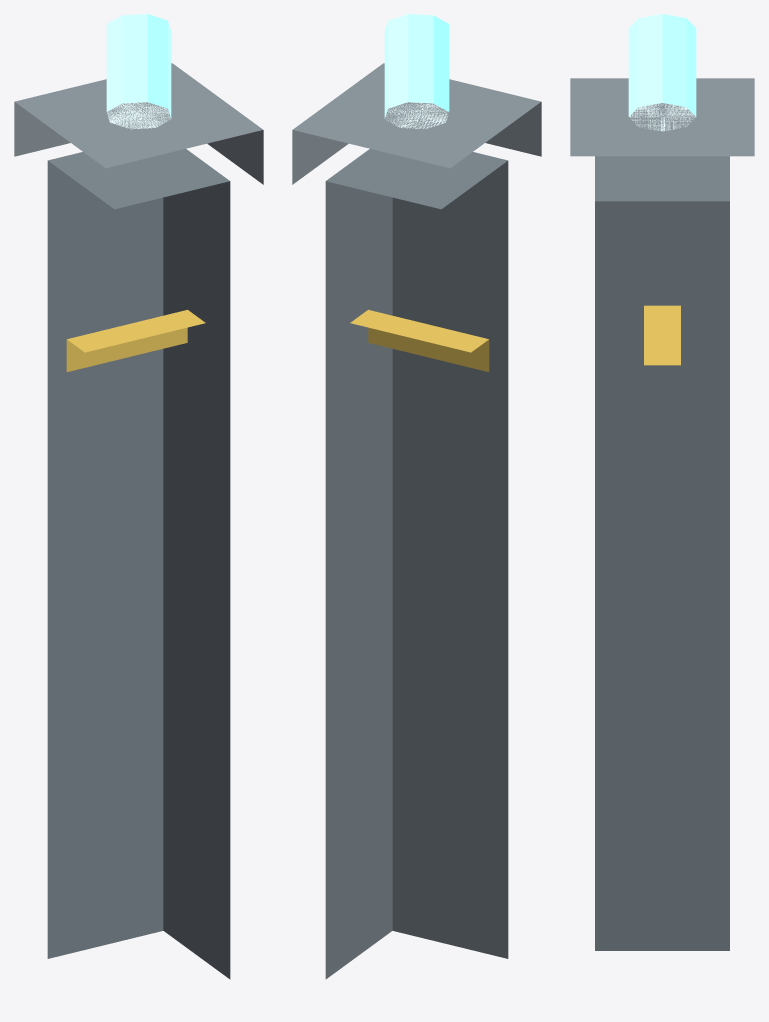
File: fence_post.glb
The picture shows the model from 3 angles, left to right: view 1: azimuth 30°, elevation 25°; view 2: azimuth 150°, elevation 25°; view 3: azimuth 270°, elevation 25°; orthographic projection.
Visible parts, largest first — view 1: VH_FencePost; view 2: VH_FencePost; view 3: VH_FencePost.
Part boxes in pixels (bbox=[...]): VH_FencePost: bbox=[14, 14, 263, 979]; VH_FencePost: bbox=[292, 14, 541, 979]; VH_FencePost: bbox=[570, 14, 754, 950].
Bounding box in the file's own units: 0.3 × 1.71 × 0.3.
